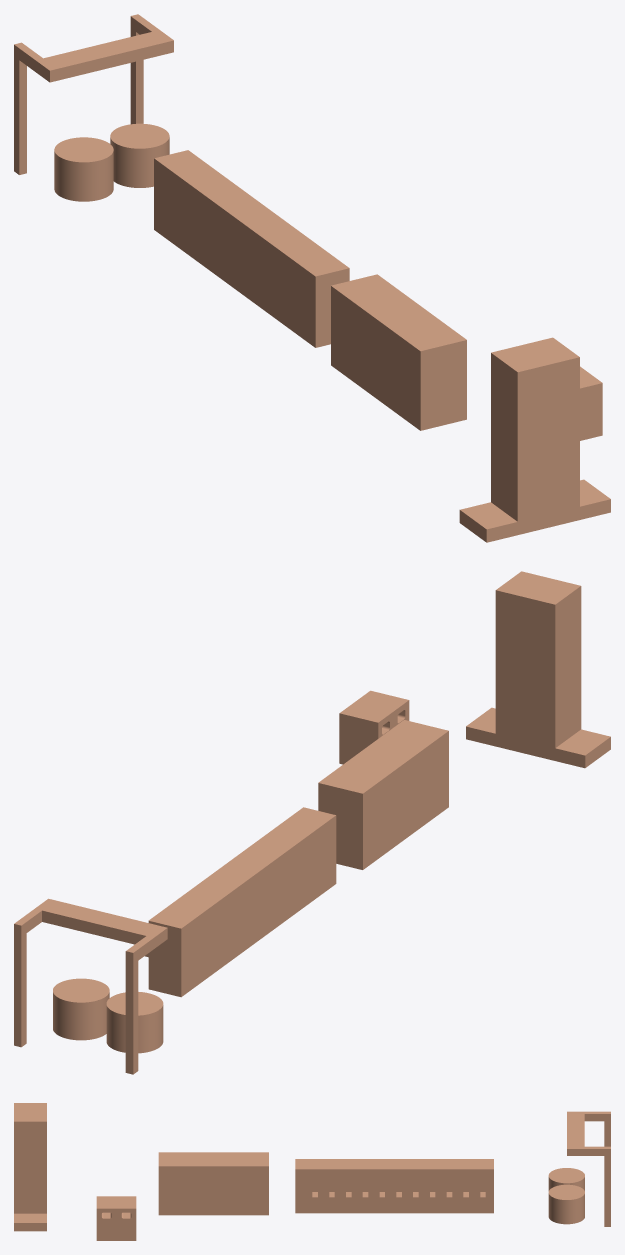
The model's file is DAM.obj.
3 renders of one model, top to bottom at view 1: azimuth 30°, elevation 25°; view 2: azimuth 150°, elevation 25°; view 3: azimuth 270°, elevation 25°, orthographic. The views are drawn at different scales.
Size of the model in its own units: 590 by 501 by 2705.
